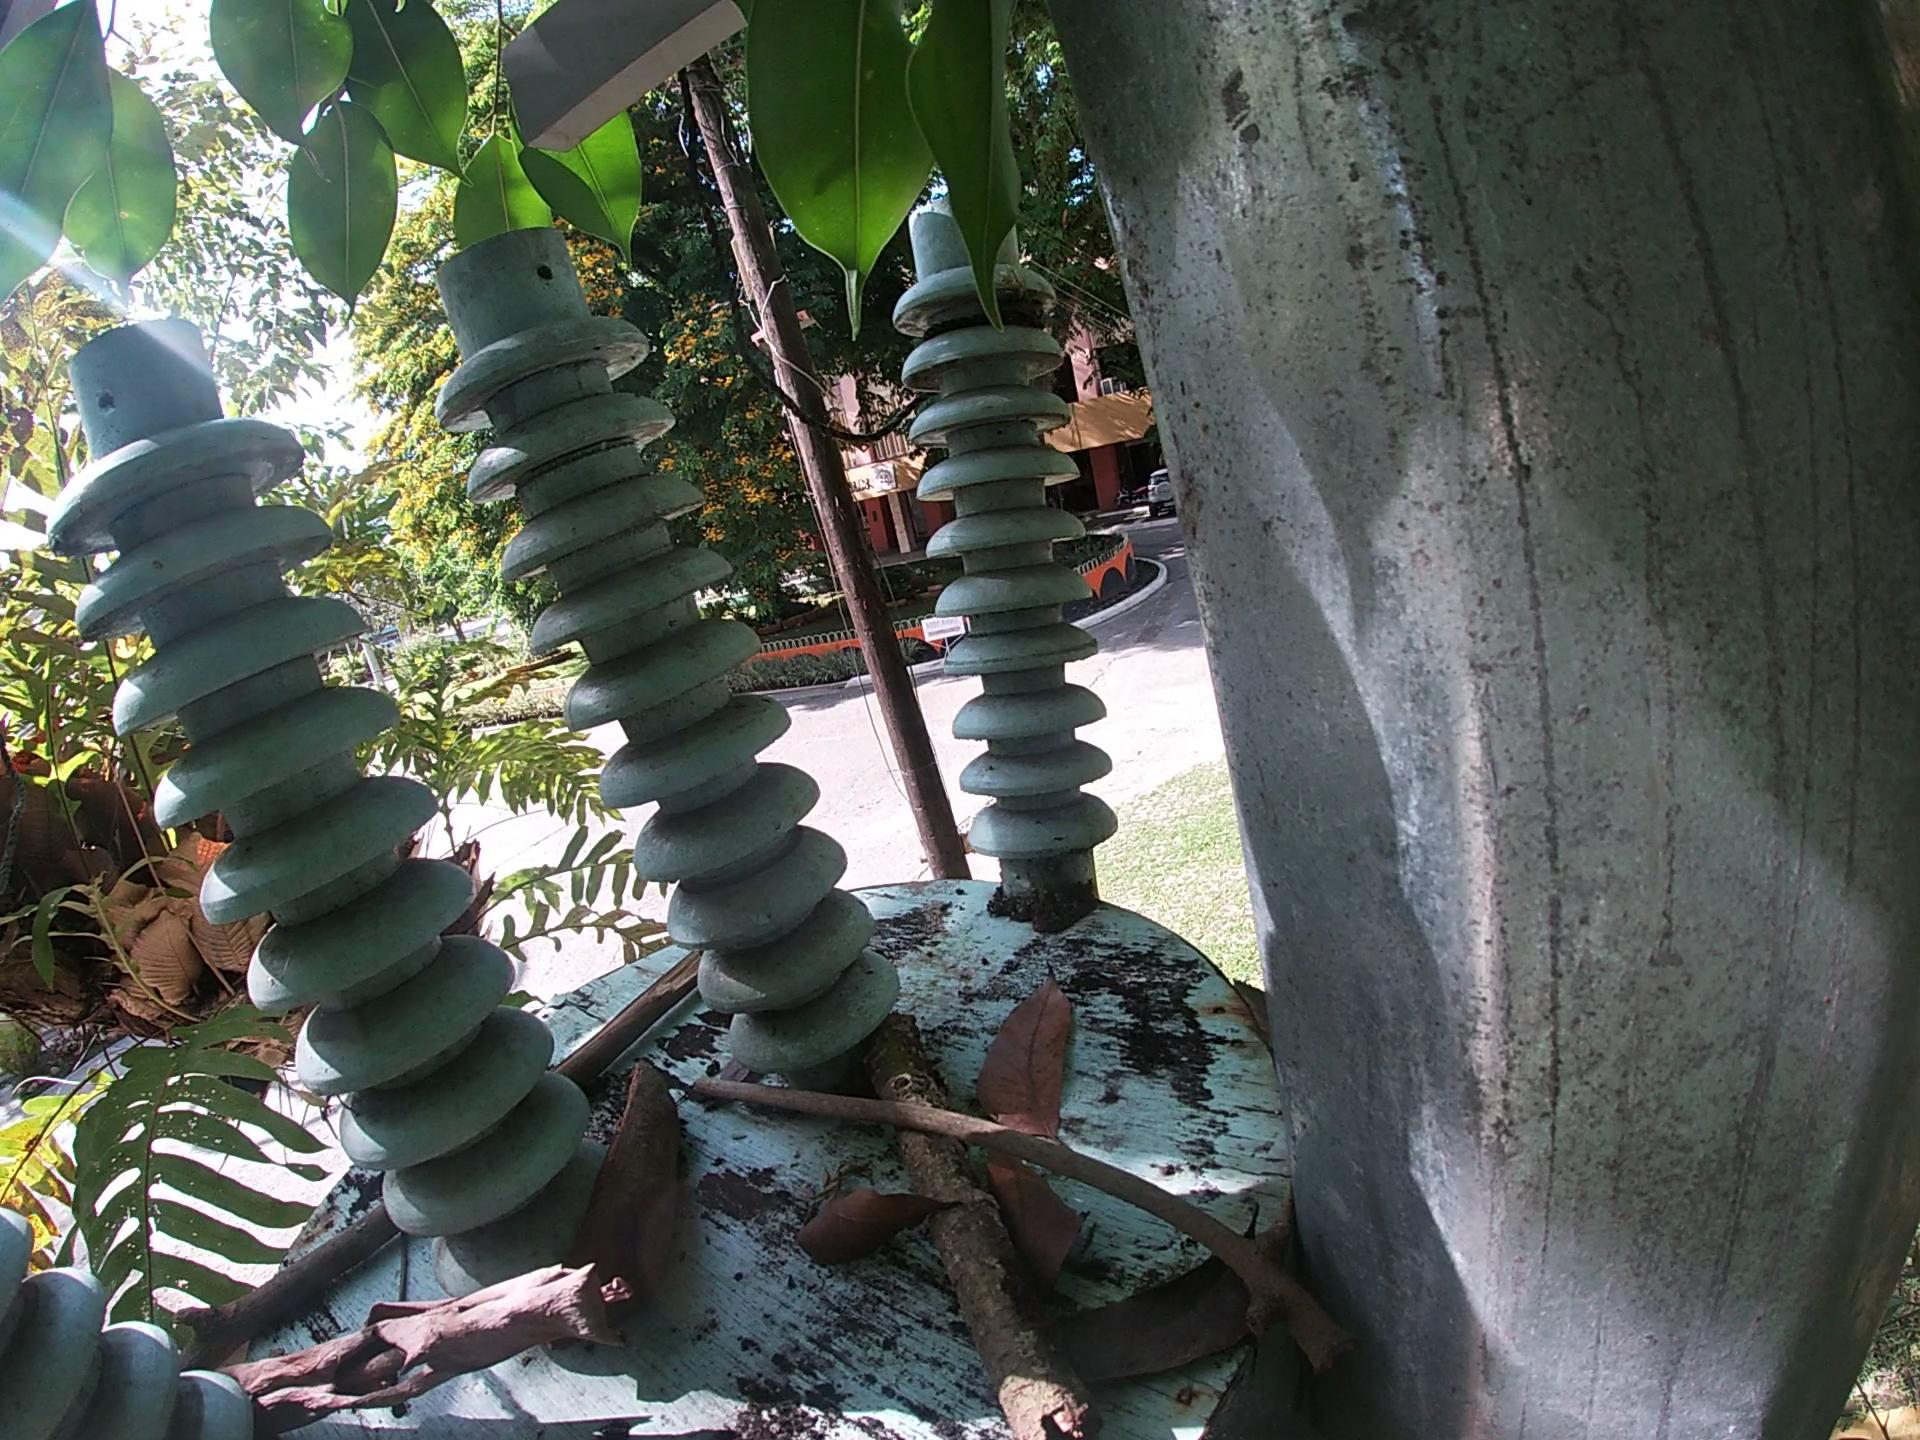leaf: (1048, 1198, 1277, 1407), (969, 951, 1092, 1148), (783, 1181, 975, 1283), (975, 1147, 1092, 1310)
mahogany fruit: (540, 1056, 692, 1361)
tree branch: (685, 1066, 1365, 1389), (848, 995, 1107, 1435), (206, 1252, 649, 1438), (168, 1199, 413, 1376), (544, 941, 711, 1097)
